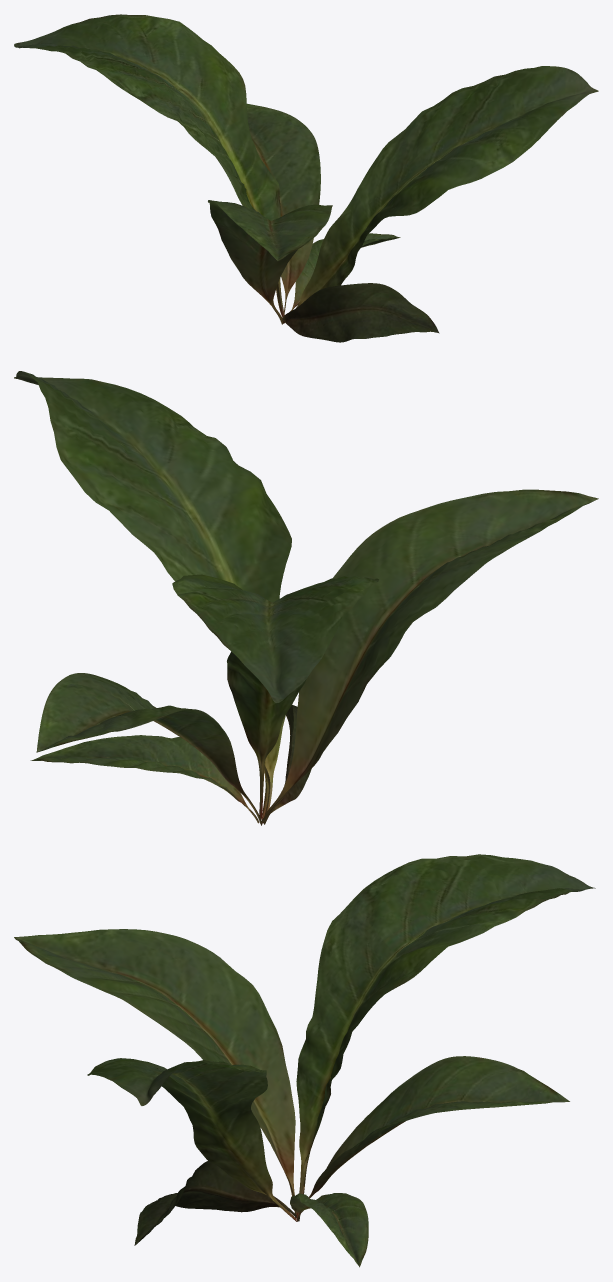
The model's file is anthurium_botany_01_f.gltf.
3 views of the same model, one above another, from view 1: azimuth 30°, elevation 25°; view 2: azimuth 150°, elevation 25°; view 3: azimuth 270°, elevation 25° (orthographic). The views are drawn at different scales.
Visible parts, largest first — view 1: anthurium_botany_01_c; view 2: anthurium_botany_01_c; view 3: anthurium_botany_01_c.
Boxes of the visible parts, x1,y1,x2,y2 form: anthurium_botany_01_c: (14,14,598,342); anthurium_botany_01_c: (14,371,598,825); anthurium_botany_01_c: (14,854,595,1267).
Bounding box in the file's own units: 0.6009 × 0.3587 × 0.6574.
Materials: 1 (1 with a texture image).
